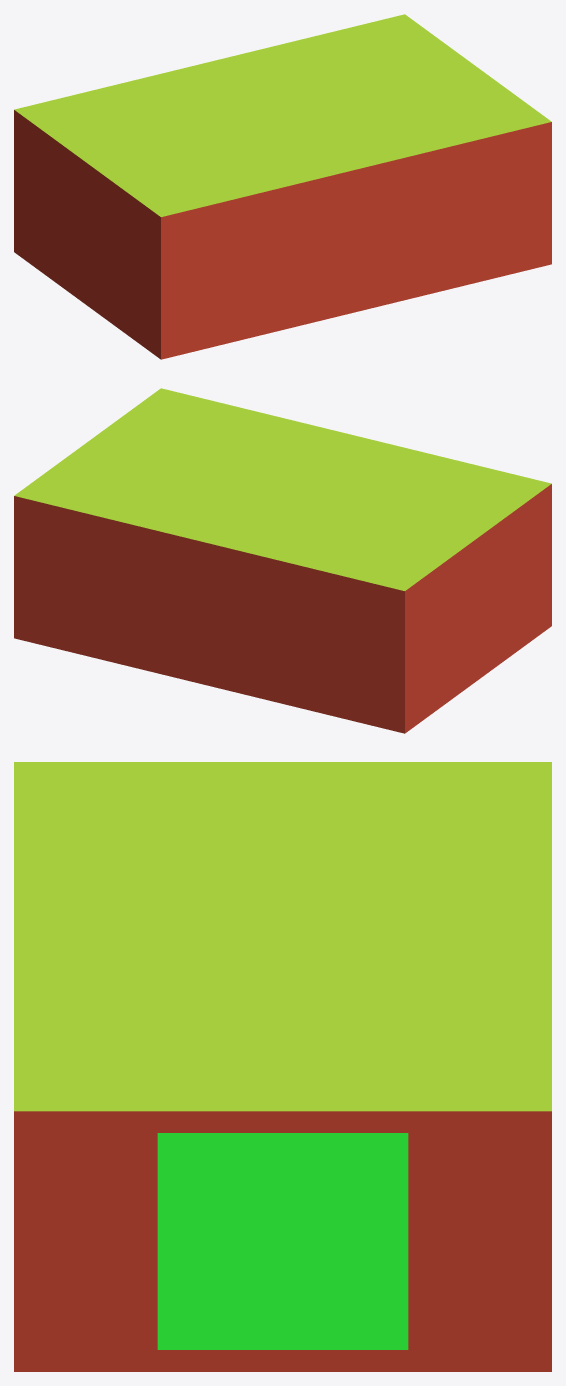
Rendered from simpleGarageNoTextMaterials.fbx.
3 views of the same model, one above another, from view 1: azimuth 30°, elevation 25°; view 2: azimuth 150°, elevation 25°; view 3: azimuth 270°, elevation 25° (orthographic). The views are drawn at different scales.
Parts seen in each view (by area): view 1: Куб; view 2: Куб; view 3: Куб.
Boxes of the visible parts, x1=… form: Куб: x1=14, y1=14, x2=551, y2=359; Куб: x1=14, y1=388, x2=551, y2=733; Куб: x1=14, y1=762, x2=551, y2=1371.
Bounding box in the file's own units: 690 × 240 × 450.
